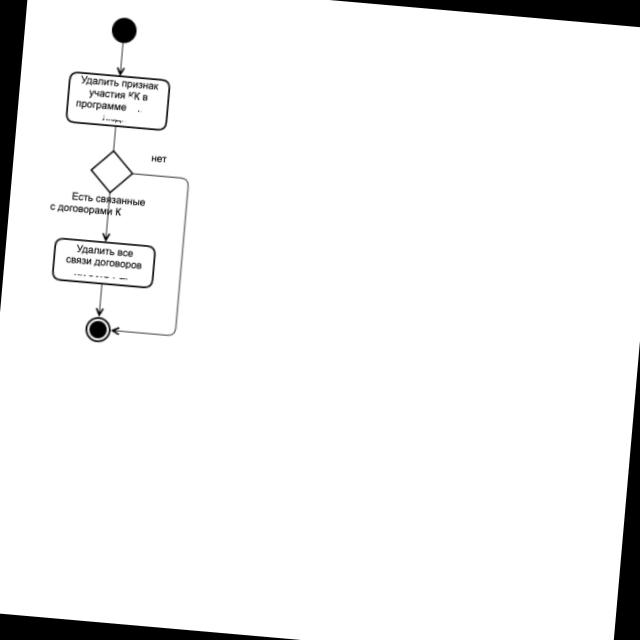arrow: (110, 168, 190, 340), (100, 191, 114, 242), (93, 282, 107, 316), (115, 42, 127, 74), (108, 125, 119, 152)
circle: (112, 18, 136, 43), (86, 317, 110, 341)
diamond: (92, 151, 132, 193)
rectangle: (66, 72, 169, 130), (53, 239, 155, 288)
text_region: (49, 189, 149, 219), (148, 152, 168, 166)
